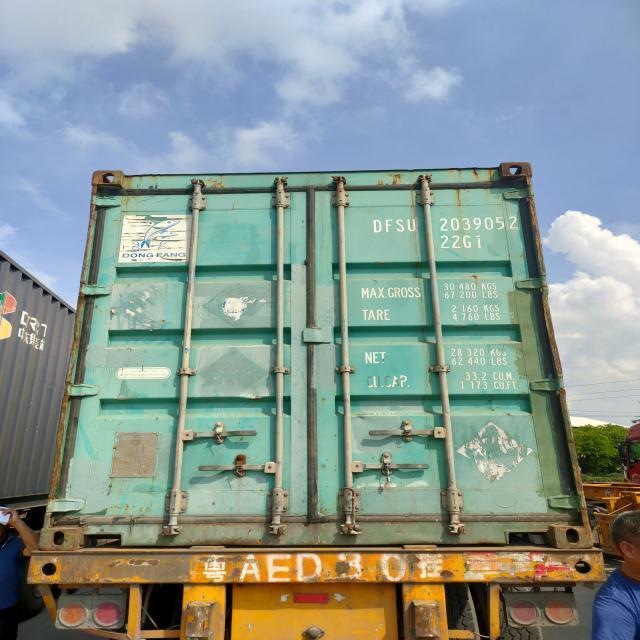ISO: (436, 236, 483, 250)
container_number: (372, 213, 522, 233)
